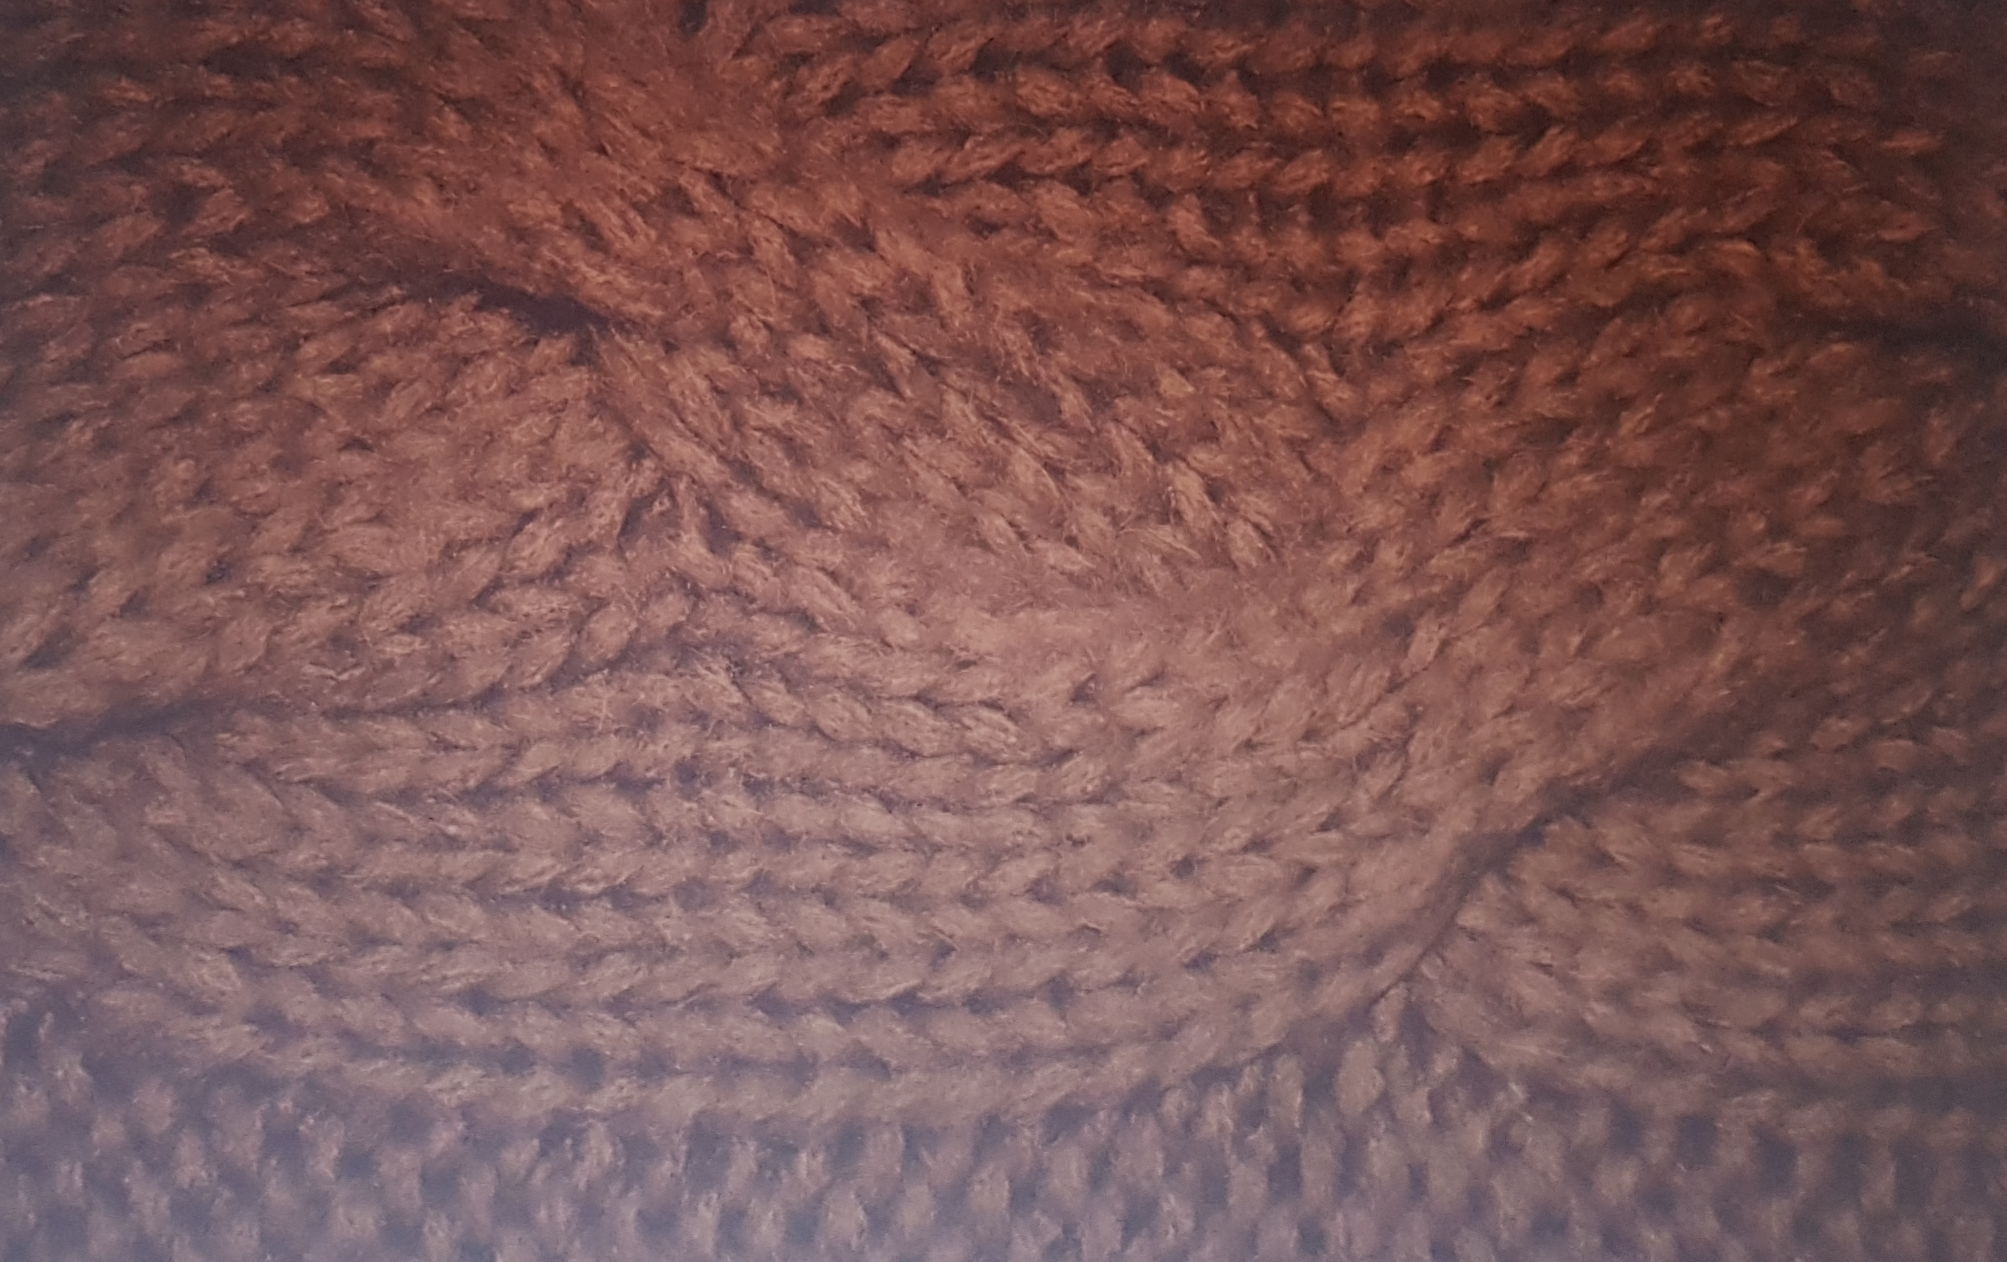Brown: (26, 31, 1974, 1250)
